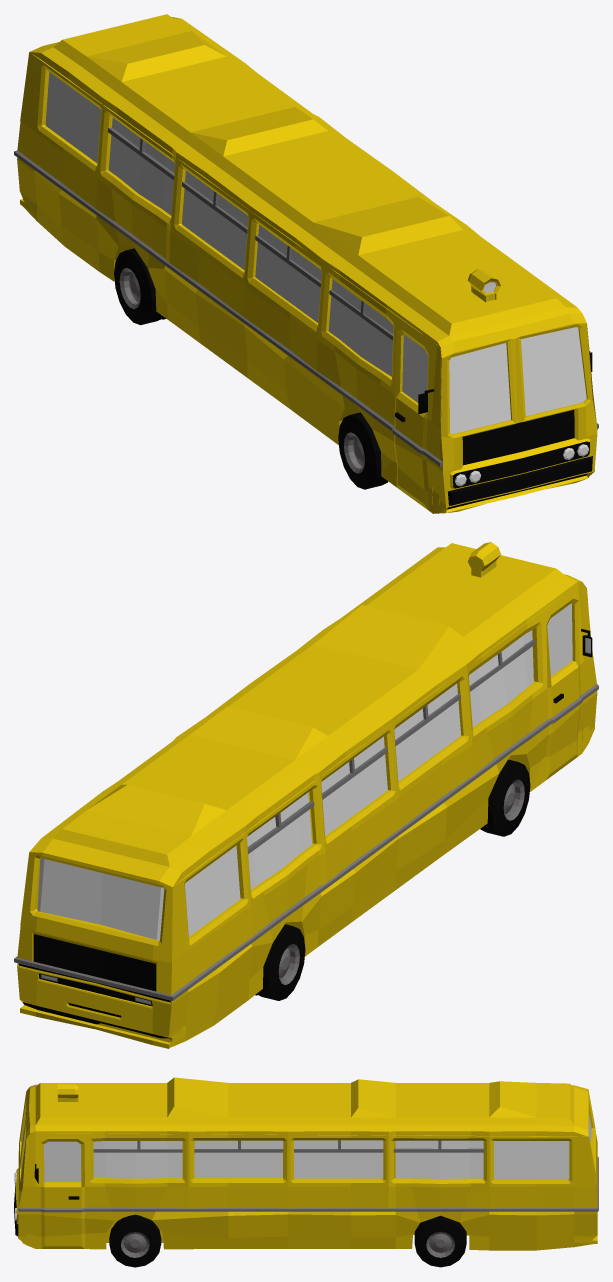
Rendered from Bus.fbx.
3 renders of one model, top to bottom at view 1: azimuth 30°, elevation 25°; view 2: azimuth 150°, elevation 25°; view 3: azimuth 270°, elevation 25°, orthographic. The views are drawn at different scales.
Parts seen in each view (by area): view 1: Bus, Wheel.Front.Right, Wheel.Rear.Right; view 2: Bus, Wheel.Front.Right, Wheel.Rear.Right; view 3: Bus, Wheel.Front.Left, Wheel.Rear.Left.
Boxes of the visible parts, <box> form: Bus: <box>14,14,598,513</box>; Wheel.Front.Right: <box>338,412,388,489</box>; Wheel.Rear.Right: <box>114,248,166,325</box>; Bus: <box>14,542,598,1048</box>; Wheel.Front.Right: <box>480,759,530,836</box>; Wheel.Rear.Right: <box>255,924,305,1000</box>; Bus: <box>14,1077,598,1250</box>; Wheel.Front.Left: <box>109,1214,161,1267</box>; Wheel.Rear.Left: <box>414,1215,466,1267</box>.
Bounding box in the file's own units: 718 × 913 × 3074.
